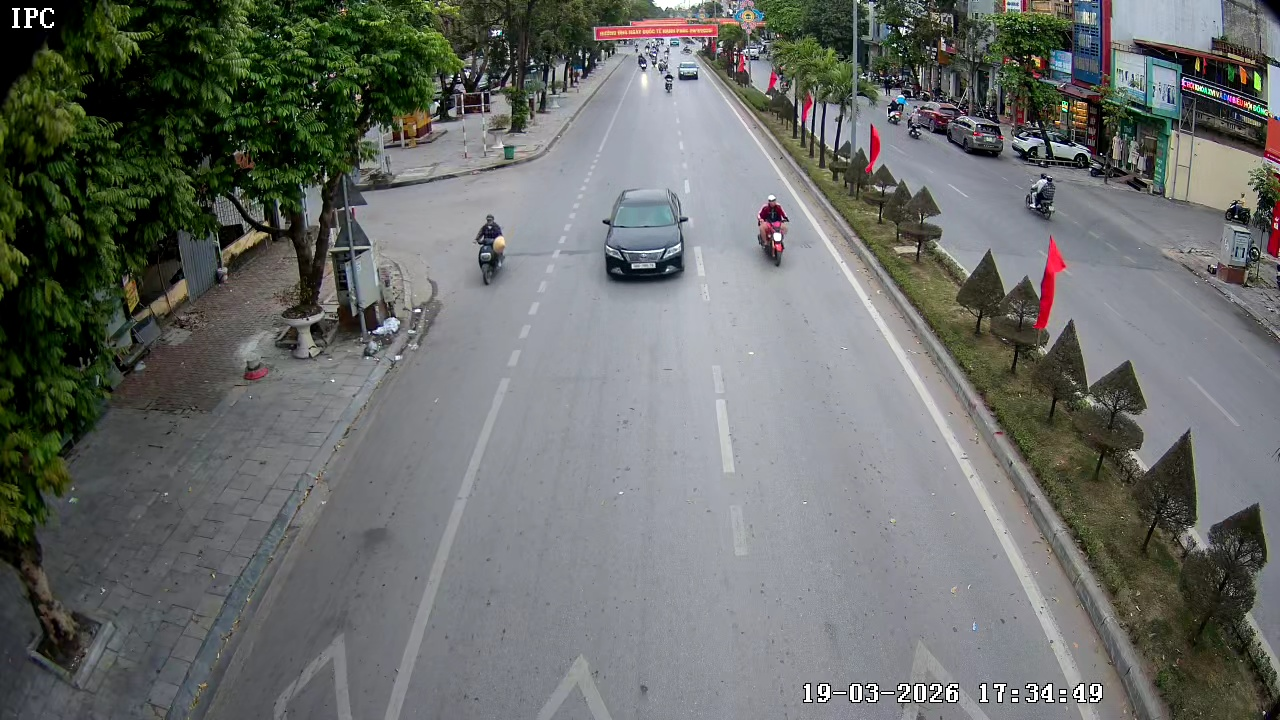car: (600, 187, 690, 281), (676, 59, 702, 84)
motorbike: (754, 193, 791, 267), (473, 212, 508, 287), (1026, 167, 1058, 221), (665, 73, 675, 95)
